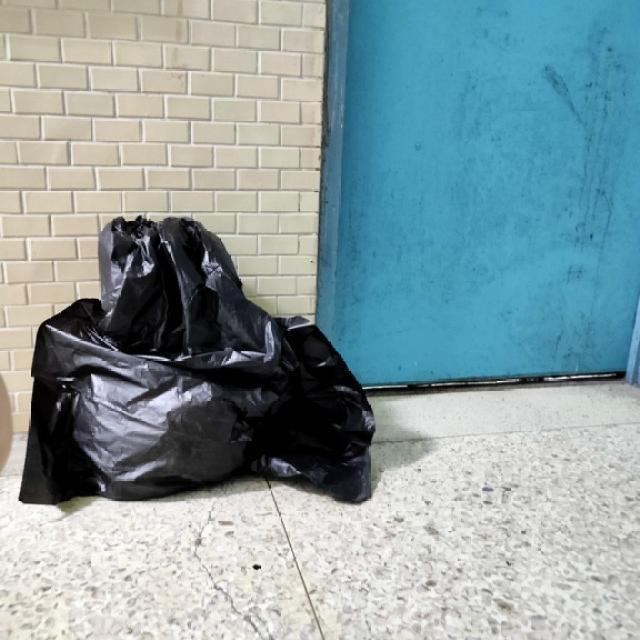Vinyl: (15, 195, 382, 520)
